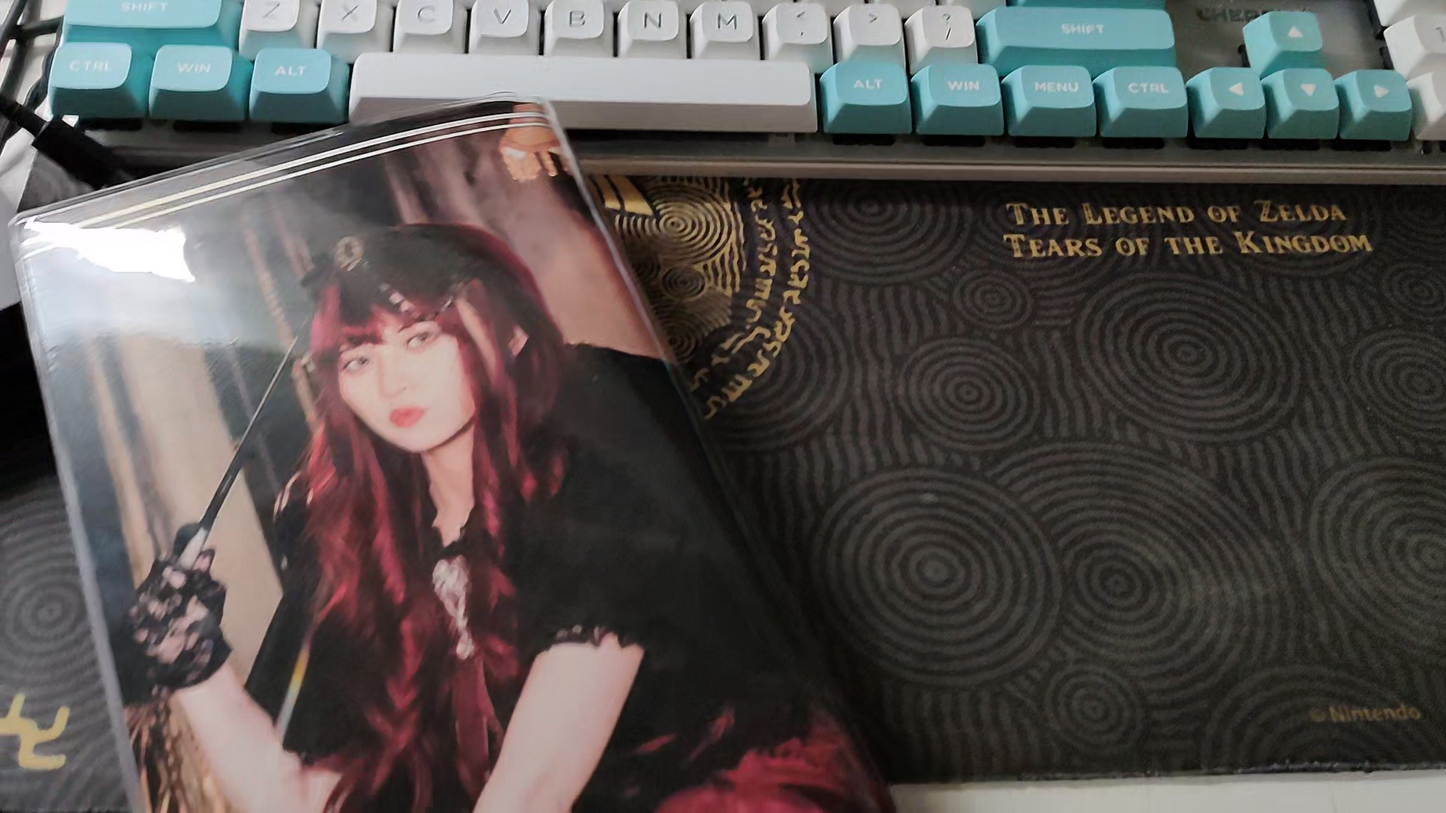Photo_book: (6, 92, 897, 813)
